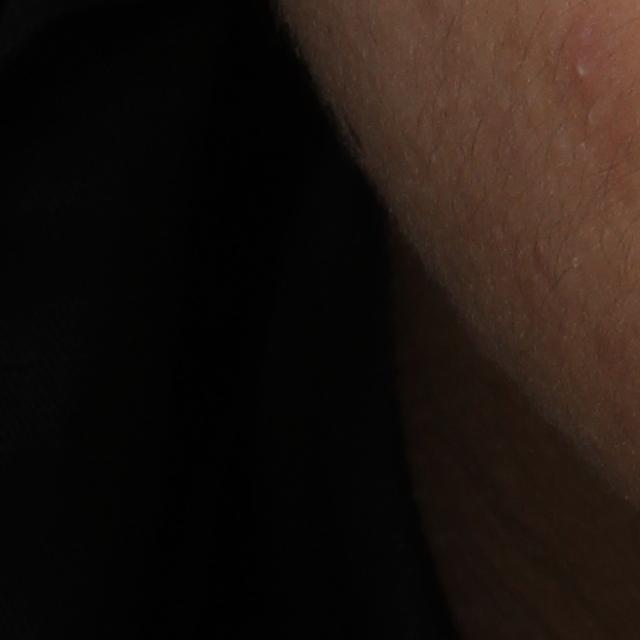pustule: (570, 56, 594, 86)
